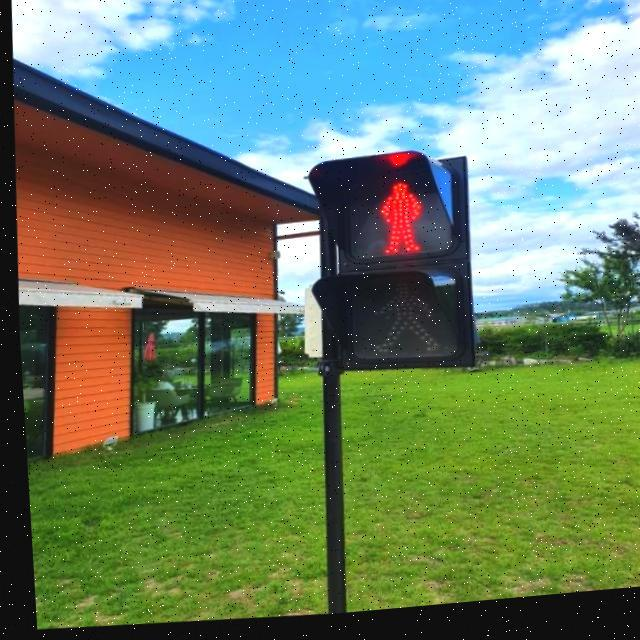red_light: (342, 175, 446, 270)
